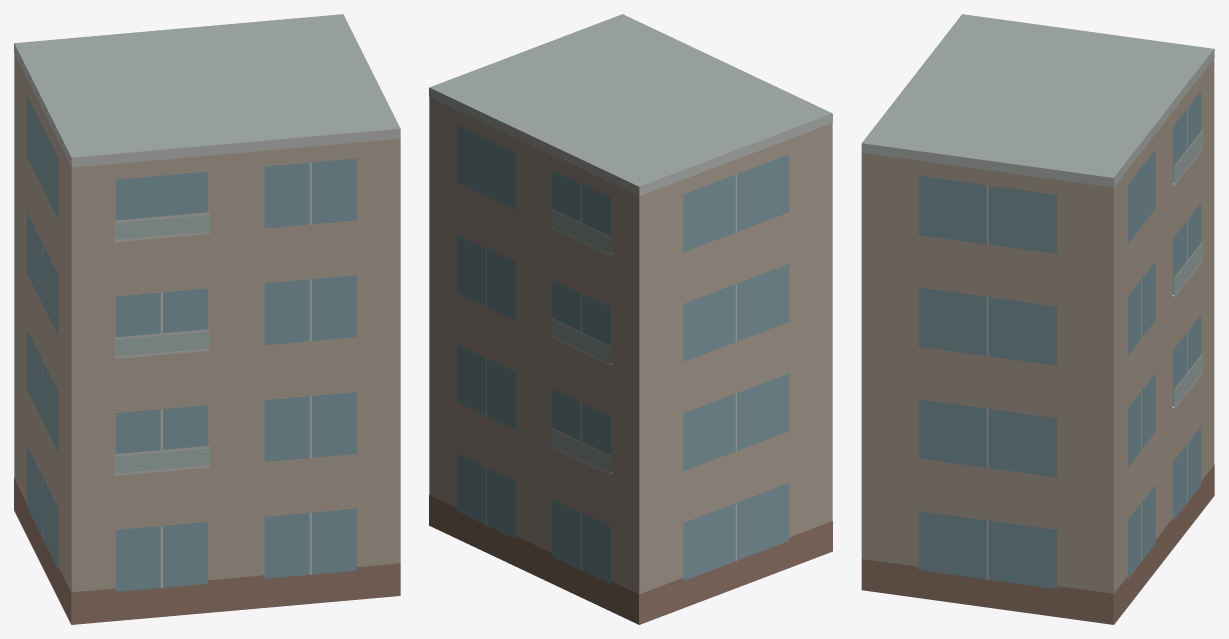
File: survey-upis-32497233.glb
3 renders of one model, left to right at view 1: azimuth 30°, elevation 25°; view 2: azimuth 150°, elevation 25°; view 3: azimuth 270°, elevation 25°, orthographic. The views are drawn at different scales.
Visible parts, largest first — view 1: survey-upis-32497233.tmp; view 2: survey-upis-32497233.tmp; view 3: survey-upis-32497233.tmp.
Boxes of the visible parts, x1=… form: survey-upis-32497233.tmp: x1=14, y1=14, x2=400, y2=624; survey-upis-32497233.tmp: x1=429, y1=14, x2=832, y2=624; survey-upis-32497233.tmp: x1=861, y1=14, x2=1214, y2=624.
Bounding box in the file's own units: 8.95 × 11.36 × 8.14.
